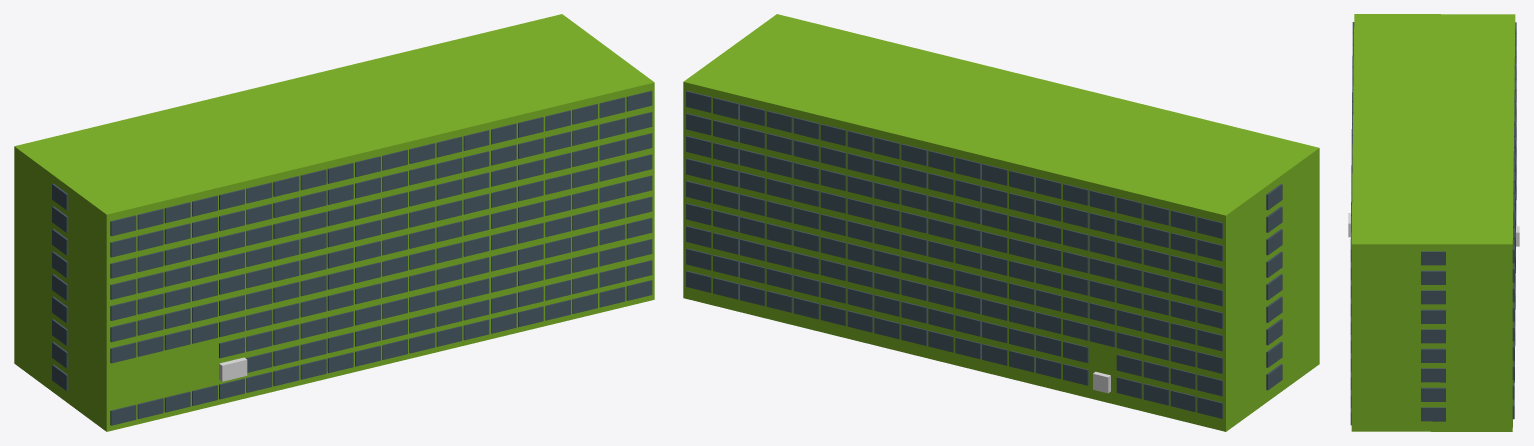
The picture shows the model from 3 angles, left to right: view 1: azimuth 30°, elevation 25°; view 2: azimuth 150°, elevation 25°; view 3: azimuth 270°, elevation 25°; orthographic projection. The views are drawn at different scales.
Parts seen in each view (by area): view 1: C; view 2: C; view 3: C.
Part boxes in pixels (box(x1,y1,x2,y2)): C: box(14, 14, 654, 431); C: box(683, 14, 1319, 431); C: box(1350, 14, 1516, 431).
Bounding box in the file's own units: 71.59 × 27 × 22.32.
